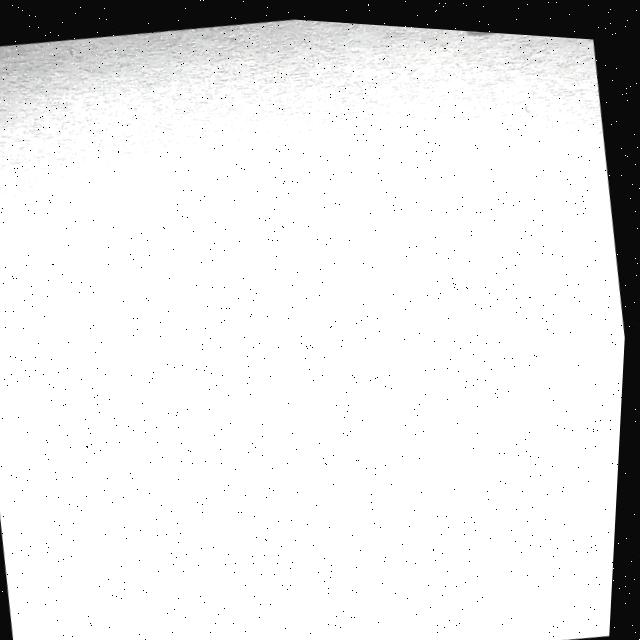Empty: (0, 30, 628, 640)
